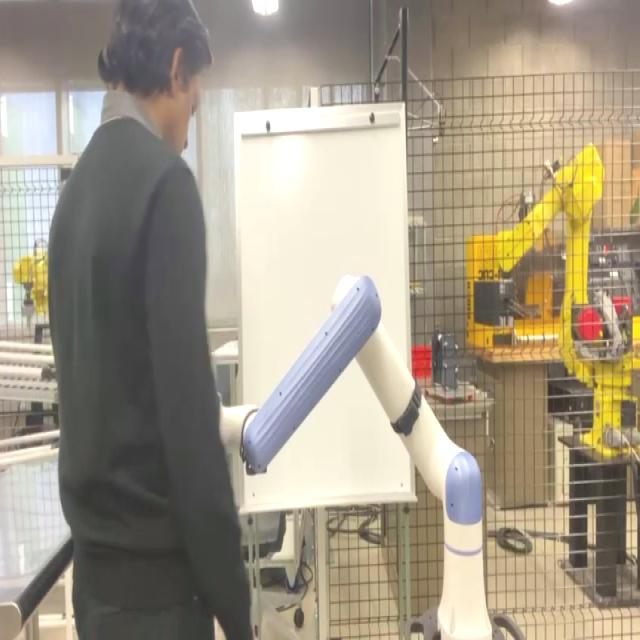robot: (221, 271, 525, 637)
